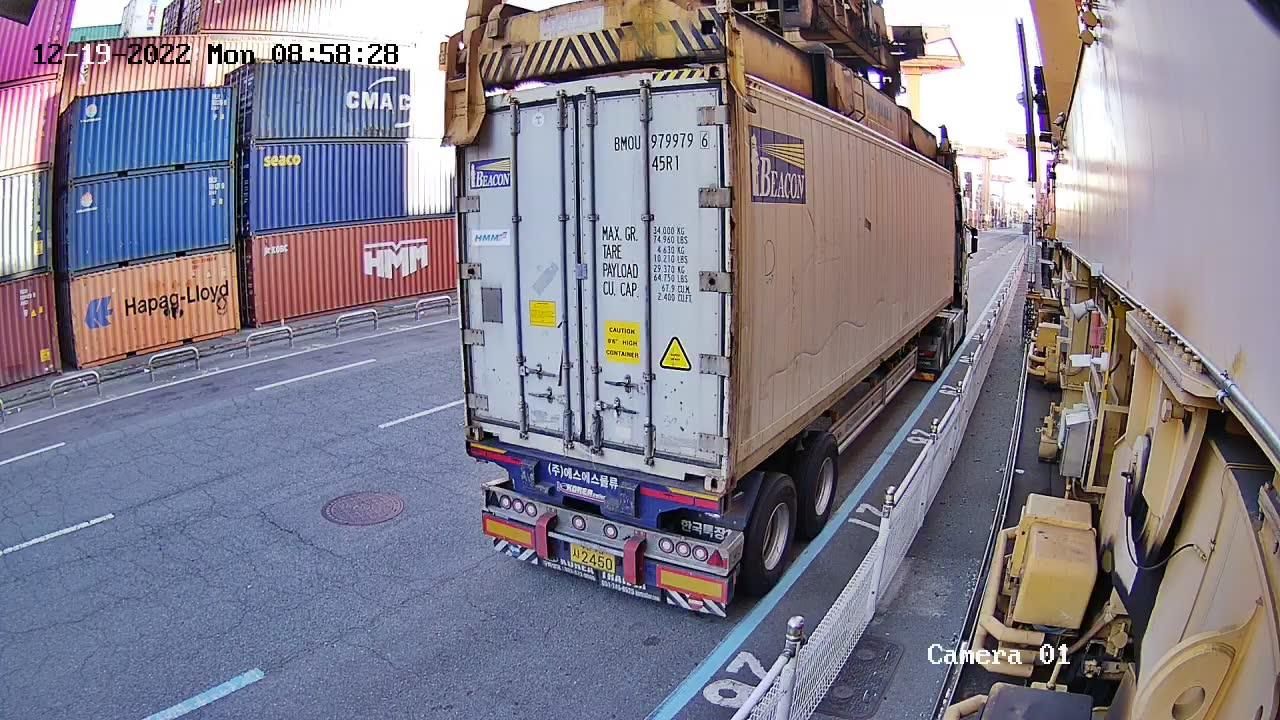Chassis: (466, 443, 724, 525)
Cone: (723, 490, 735, 514)
Hole_L: (727, 428, 759, 494), (466, 408, 509, 444)
Hole_R: (679, 438, 726, 490)
Tire: (750, 478, 799, 582), (804, 438, 840, 529)
